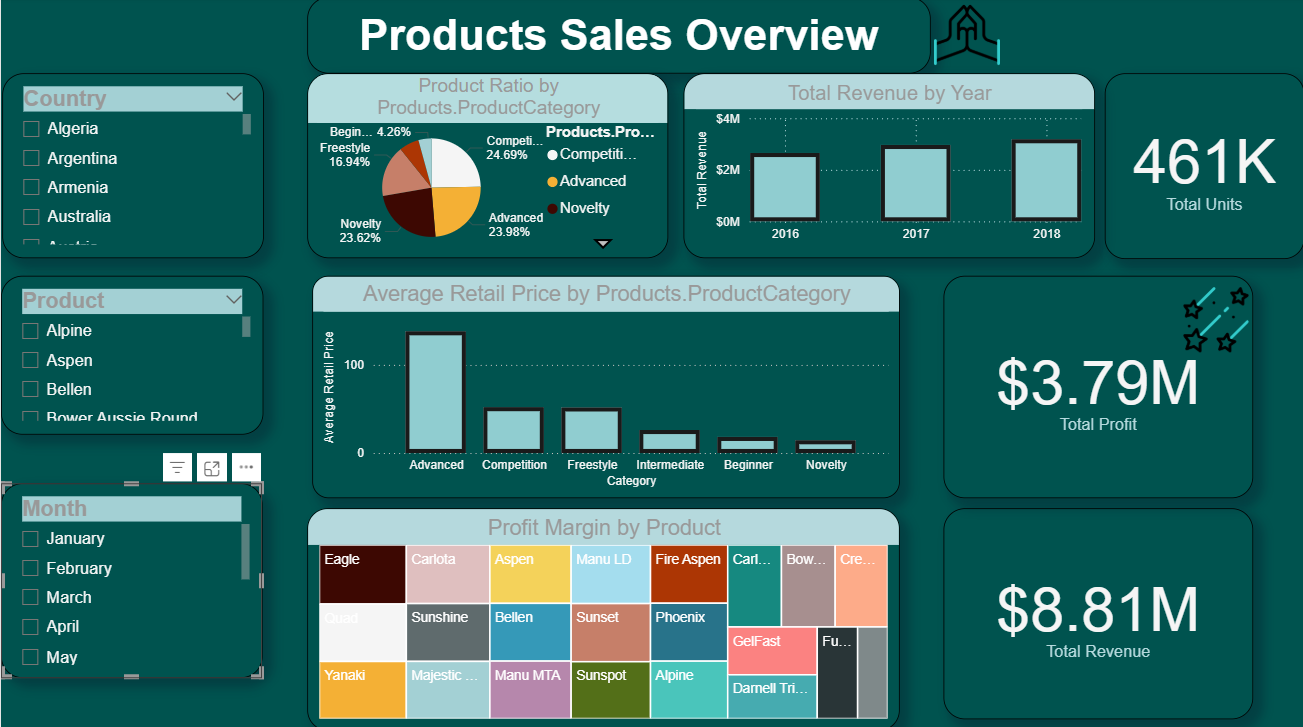

The page's visual inventory and layout, read from the dashboard file:
{"tool":"powerbi","page":{"name":"Page 1","canvas":[1280,720],"ordinal":0},"visuals":[{"type":"textbox","box":[300.6,0,612.3,74.8],"z":0},{"type":"slicer","fields":{"Values":["Merge1.Product"]},"box":[0,273.6,257.7,155.8],"z":1000},{"type":"slicer","fields":{"Values":["Merge1.Country"]},"box":[1.2,74.8,256.4,181.6],"z":2000},{"type":"slicer","fields":{"Values":["Merge1.Date.Variation.Date Hierarchy.Month"]},"box":[0,477.3,256.4,191.4],"z":3000},{"type":"pieChart","fields":{"Y":["measure.Product Ratio"],"Category":["Merge1.Products.ProductCategory"]},"box":[300.6,74.8,354.6,181.6],"z":4000},{"type":"clusteredColumnChart","fields":{"Category":["Merge1.Date.Variation.Date Hierarchy.Year"],"Y":["measure.Total Revenue"]},"box":[669.9,74.8,403.7,181.6],"z":5000},{"type":"clusteredColumnChart","fields":{"Category":["Merge1.Products.ProductCategory"],"Y":["measure.Average Retail Price"]},"box":[305.5,273.6,576.7,218.4],"z":6000},{"type":"treemap","fields":{"Group":["Merge1.Product"],"Values":["measure.Profit Margin"]},"box":[300.6,501.8,581.6,218.4],"z":7000},{"type":"card","fields":{"Values":["measure.Total Profit"]},"box":[925.2,273.6,304.3,218.4],"z":8000},{"type":"card","fields":{"Values":["measure.Total Revenue"]},"box":[925.2,501.8,304.3,207.4],"z":9000},{"type":"image","box":[900.6,0,95.7,74.8],"z":10000},{"type":"image","box":[1155.8,273.6,73.6,85.9],"z":11000},{"type":"card","fields":{"Values":["measure.Total Units"]},"box":[1084,75,196,182],"z":12000}]}

Visuals, with their boxes in screenshot pixels (x1, y1, x2, y2), scaled from the page's 1280x720 canvas onto the 1303x727 screenshot:
textbox: l=306, t=0, r=929, b=76
slicer - Merge1.Product: l=0, t=276, r=262, b=434
slicer - Merge1.Country: l=1, t=76, r=262, b=259
slicer - Merge1.Date.Variation.Date Hierarchy.Month: l=0, t=482, r=261, b=675
pieChart - measure.Product Ratio x Merge1.Products.ProductCategory: l=306, t=76, r=667, b=259
clusteredColumnChart - Merge1.Date.Variation.Date Hierarchy.Year x measure.Total Revenue: l=682, t=76, r=1093, b=259
clusteredColumnChart - Merge1.Products.ProductCategory x measure.Average Retail Price: l=311, t=276, r=898, b=497
treemap - Merge1.Product x measure.Profit Margin: l=306, t=507, r=898, b=726
card - measure.Total Profit: l=942, t=276, r=1252, b=497
card - measure.Total Revenue: l=942, t=507, r=1252, b=716
image: l=917, t=0, r=1014, b=76
image: l=1177, t=276, r=1251, b=363
card - measure.Total Units: l=1103, t=76, r=1302, b=259
